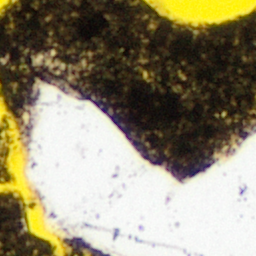air_pores: (143, 0, 255, 27)
cement_matrix: (0, 0, 255, 181), (0, 194, 54, 255), (64, 235, 112, 255), (0, 124, 6, 179), (35, 55, 58, 69)
cracks: (0, 92, 68, 255), (0, 0, 12, 13), (84, 252, 92, 255)
gravel_crushed_stones: (24, 86, 255, 255), (36, 56, 57, 68)
